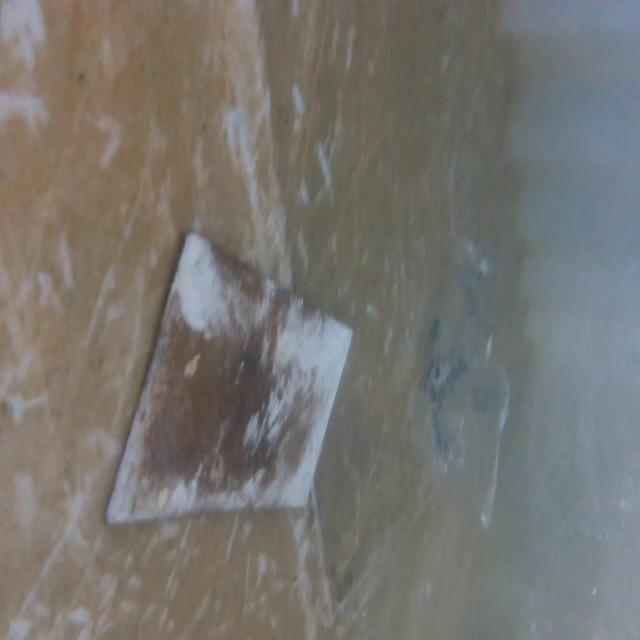metal: (95, 218, 358, 530)
